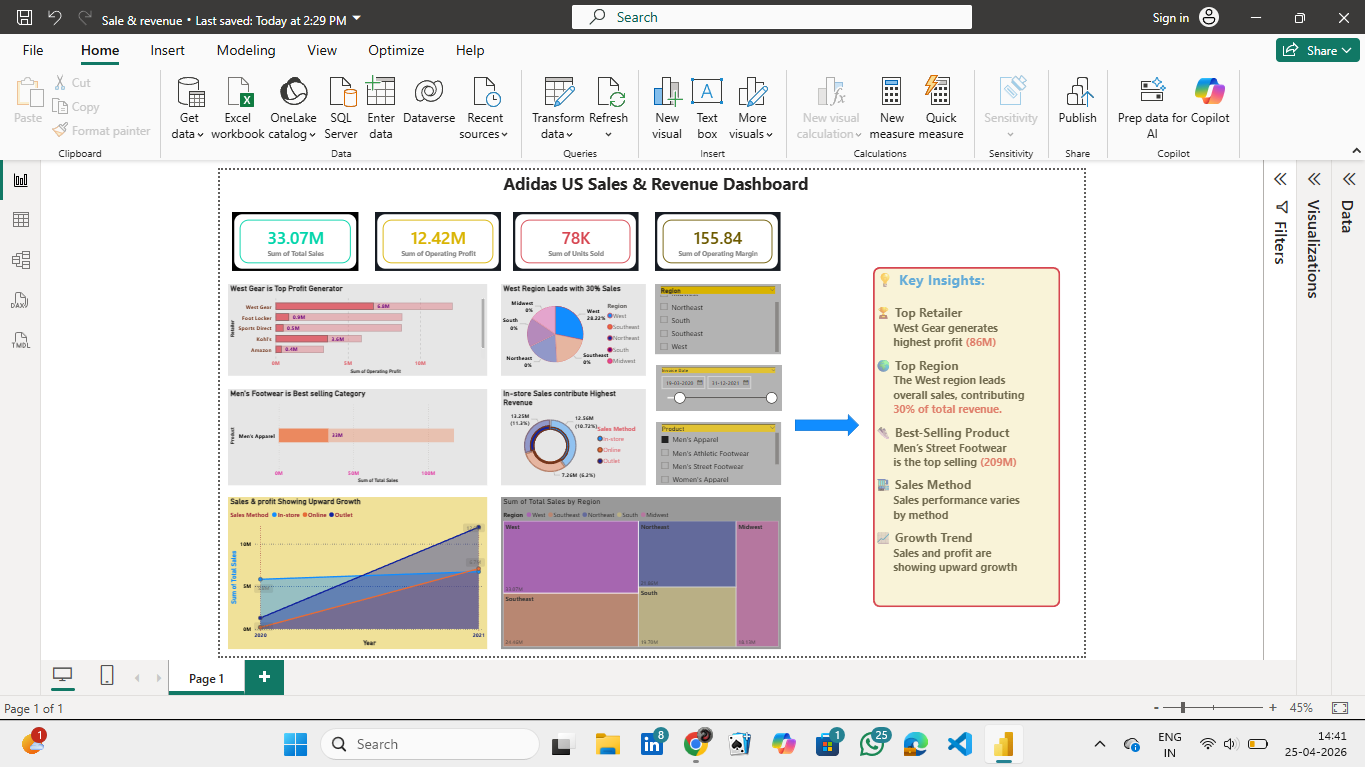

This screenshot's page, from the dashboard's own definition file:
{"tool":"powerbi","page":{"name":"Page 1","canvas":[1920,1080],"ordinal":0},"visuals":[{"type":"cardVisual","fields":{"Data":["Sum(Table 1 (Data Sales Adidas).Total Sales)"]},"box":[26.2,92.5,281.2,131.2],"z":0},{"type":"cardVisual","fields":{"Data":["Sum(Table 1 (Data Sales Adidas).Operating Profit)"]},"box":[345,92.5,280,131.2],"z":1000},{"type":"cardVisual","fields":{"Data":["Sum(Table 1 (Data Sales Adidas).Units Sold)"]},"box":[650,92.5,278.8,131.2],"z":2000},{"type":"cardVisual","fields":{"Data":["Sum(Table 1 (Data Sales Adidas).Operating Margin)"]},"box":[966.2,92.5,278.8,131.2],"z":3000},{"type":"barChart","title":"Men''s Footwear is Best selling Category","fields":{"Category":["Table 1 (Data Sales Adidas).Product"],"Y":["Sum(Table 1 (Data Sales Adidas).Total Sales)"]},"box":[18,486,576,214],"z":4000},{"type":"donutChart","title":"In-store Sales contribute Highest Revenue","fields":{"Category":["Table 1 (Data Sales Adidas).Sales Method"],"Y":["Sum(Table 1 (Data Sales Adidas).Total Sales)"]},"box":[624,486,322,214],"z":5000},{"type":"clusteredBarChart","title":"West Gear is Top Profit Generator","fields":{"Category":["Table 1 (Data Sales Adidas).Retailer"],"Y":["Sum(Table 1 (Data Sales Adidas).Operating Profit)"]},"box":[18,254,576,204],"z":6000},{"type":"pieChart","title":"West Region Leads with 30% Sales","fields":{"Category":["Table 1 (Data Sales Adidas).Region"],"Y":["Sum(Table 1 (Data Sales Adidas).Total Sales)"]},"box":[624,254,322,204],"z":7000},{"type":"slicer","fields":{"Values":["Table 1 (Data Sales Adidas).Region"]},"box":[966,254,280,156],"z":8000},{"type":"slicer","fields":{"Values":["Table 1 (Data Sales Adidas).Invoice Date"]},"box":[968,434,278,102],"z":9000},{"type":"slicer","fields":{"Values":["Table 1 (Data Sales Adidas).Product"]},"box":[968.3,560,278.3,140],"z":10000},{"type":"textbox","box":[594,0,910,66],"z":11000},{"type":"lineChart","title":"Sales & profit Showing Upward Growth","fields":{"Category":["Table 1 (Data Sales Adidas).Invoice Date.Variation.Date Hierarchy.Year","Table 1 (Data Sales Adidas).Invoice Date.Variation.Date Hierarchy.Month"],"Y":["Sum(Table 1 (Data Sales Adidas).Total Sales)"],"Series":["Table 1 (Data Sales Adidas).Sales Method"]},"box":[18,726,576,338],"z":12000},{"type":"textbox","box":[1450,216,416,756],"z":13000},{"type":"shape","box":[1450,216,416,756],"z":14000},{"type":"shape","box":[1277.5,542.5,142.5,50],"z":15000},{"type":"treemap","fields":{"Group":["Table 1 (Data Sales Adidas).Region"],"Values":["Sum(Table 1 (Data Sales Adidas).Total Sales)"]},"box":[624,726,622,338],"z":16000}]}

Visuals, with their boxes on the page's 1920x1080 design canvas (x1, y1, x2, y2). These are canvas units, not pixel positions in the 1365x767 screenshot, which may show the page scaled, cropped or inside an application window:
cardVisual - Sum(Table 1 (Data Sales Adidas).Total Sales): (26,92,307,224)
cardVisual - Sum(Table 1 (Data Sales Adidas).Operating Profit): (345,92,625,224)
cardVisual - Sum(Table 1 (Data Sales Adidas).Units Sold): (650,92,929,224)
cardVisual - Sum(Table 1 (Data Sales Adidas).Operating Margin): (966,92,1245,224)
"Men''s Footwear is Best selling Category" barChart: (18,486,594,700)
"In-store Sales contribute Highest Revenue" donutChart: (624,486,946,700)
"West Gear is Top Profit Generator" clusteredBarChart: (18,254,594,458)
"West Region Leads with 30% Sales" pieChart: (624,254,946,458)
slicer - Table 1 (Data Sales Adidas).Region: (966,254,1246,410)
slicer - Table 1 (Data Sales Adidas).Invoice Date: (968,434,1246,536)
slicer - Table 1 (Data Sales Adidas).Product: (968,560,1247,700)
textbox: (594,0,1504,66)
"Sales & profit Showing Upward Growth" lineChart: (18,726,594,1064)
textbox: (1450,216,1866,972)
shape: (1450,216,1866,972)
shape: (1278,542,1420,592)
treemap - Table 1 (Data Sales Adidas).Region x Sum(Table 1 (Data Sales Adidas).Total Sales): (624,726,1246,1064)
